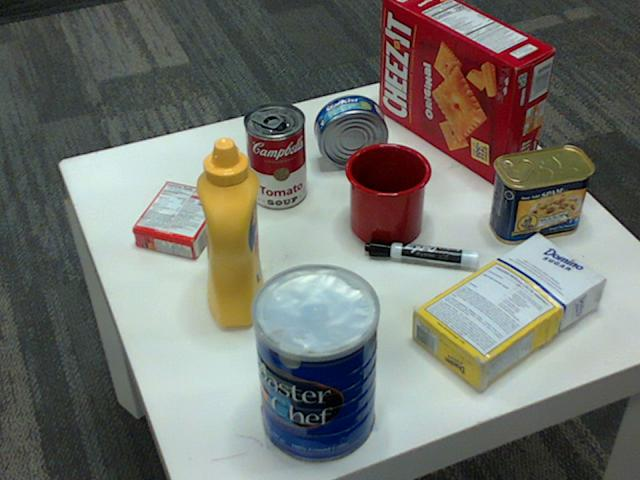cracker_box: (378, 0, 554, 185)
gelatin_box: (129, 178, 224, 256)
large_marker: (365, 239, 479, 273)
master_chef_can: (249, 266, 378, 465)
mug: (342, 141, 430, 246)
mustard_bottle: (194, 138, 263, 326)
potted_meat_can: (488, 147, 592, 245)
sugar_box: (408, 232, 603, 392)
tomato_soup_can: (243, 102, 305, 209)
tuna_fish_can: (313, 94, 387, 168)
